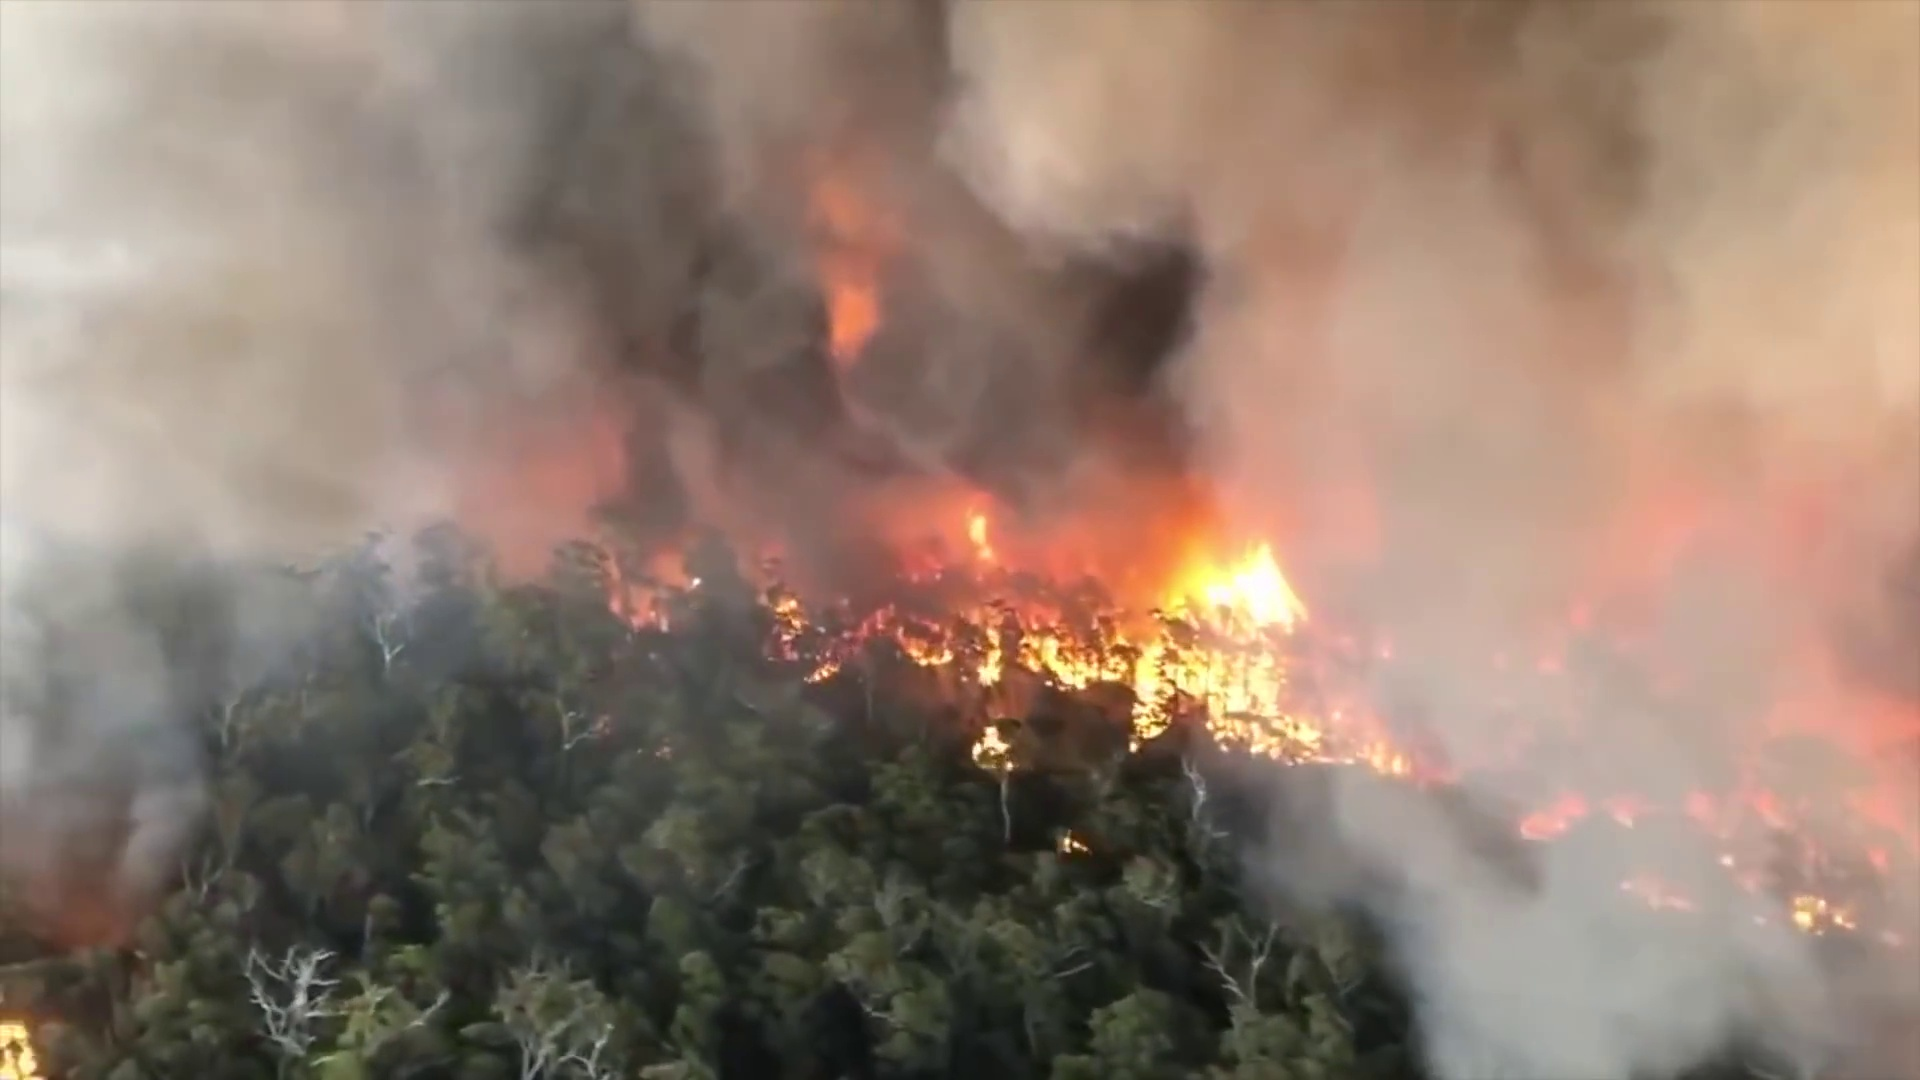fire: (1015, 547, 1323, 766)
